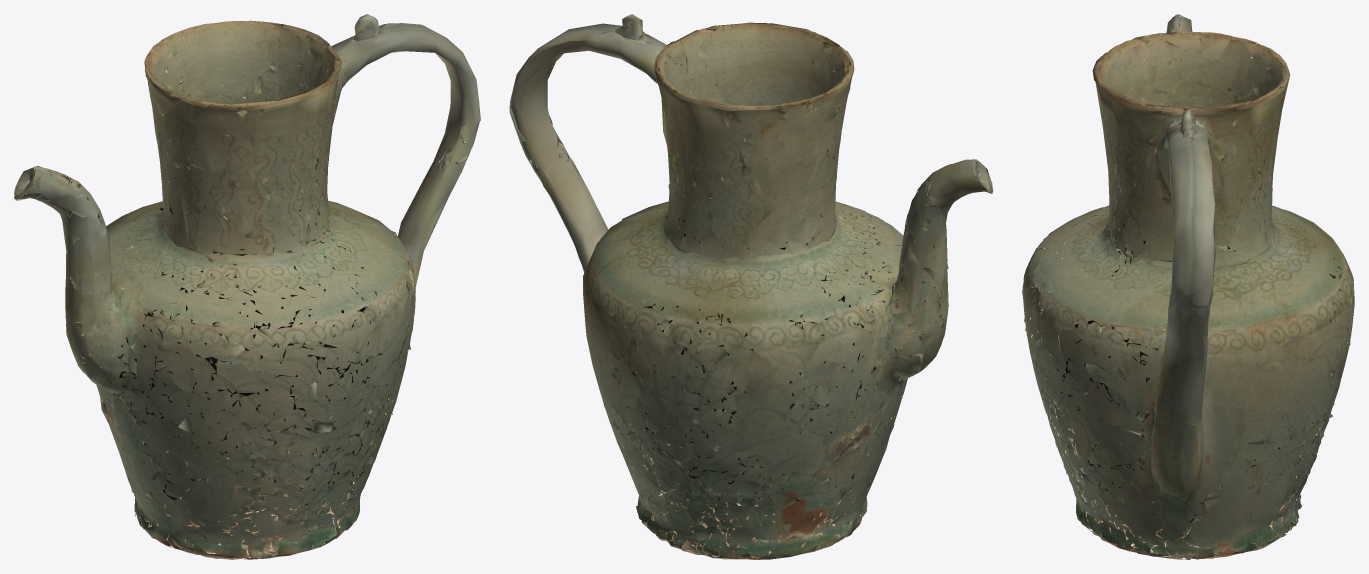
File: winepot.glb
3 renders of one model, left to right at view 1: azimuth 30°, elevation 25°; view 2: azimuth 150°, elevation 25°; view 3: azimuth 270°, elevation 25°, orthographic.
Parts seen in each view (by area): view 1: Object_3, Object_2, Object_4; view 2: Object_3, Object_4, Object_2; view 3: Object_3, Object_2, Object_4.
Part boxes in pixels (box(x1,y1,x2,y2)): Object_3: box(16, 20, 479, 545); Object_2: box(110, 23, 415, 559); Object_4: box(14, 14, 480, 559); Object_3: box(521, 22, 993, 559); Object_4: box(509, 14, 992, 555); Object_2: box(614, 40, 918, 559); Object_3: box(1023, 14, 1354, 557); Object_2: box(1022, 77, 1323, 559); Object_4: box(1025, 14, 1352, 544).
Bounding box in the file's own units: 0.2431 × 0.2361 × 0.1527.
Materials: 2 (1 with a texture image).
